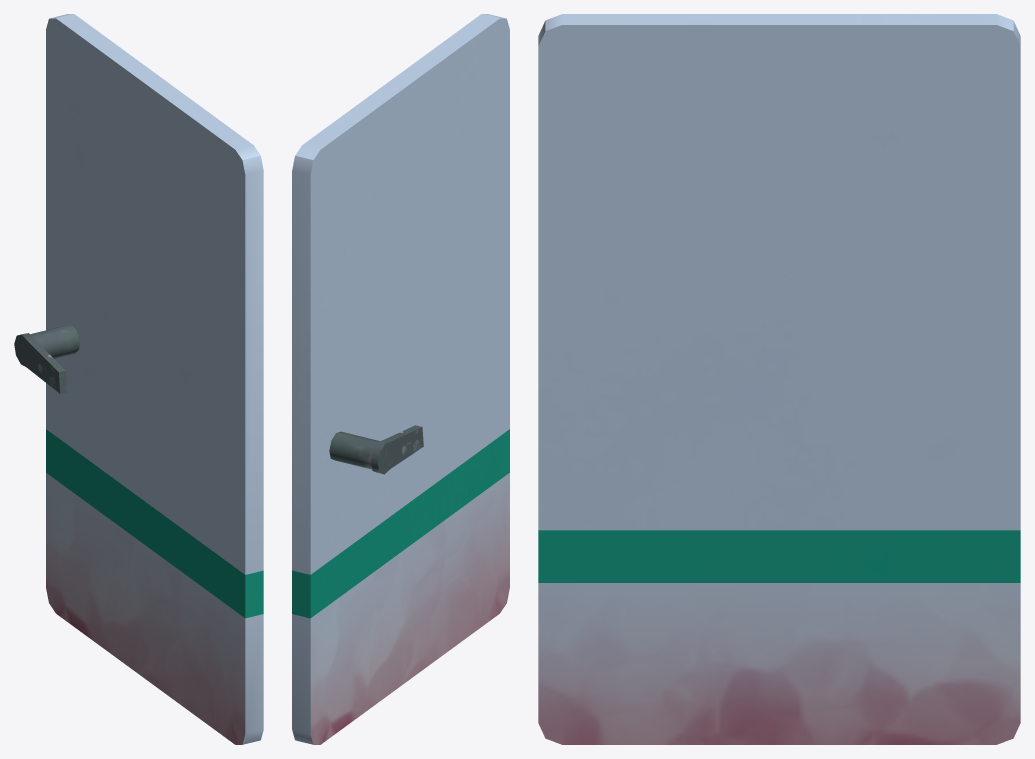
File: Bathroom_Door.fbx
3 views of the same model, side by side, from view 1: azimuth 30°, elevation 25°; view 2: azimuth 150°, elevation 25°; view 3: azimuth 270°, elevation 25° (orthographic). The views are drawn at different scales.
Parts seen in each view (by area): view 1: BathroomDoor; view 2: BathroomDoor; view 3: BathroomDoor.
Boxes of the visible parts, x1=… form: BathroomDoor: x1=14, y1=14, x2=263, y2=744; BathroomDoor: x1=292, y1=14, x2=509, y2=744; BathroomDoor: x1=538, y1=14, x2=1020, y2=744.
Bounding box in the file's own units: 19.07 × 160 × 96.81.
